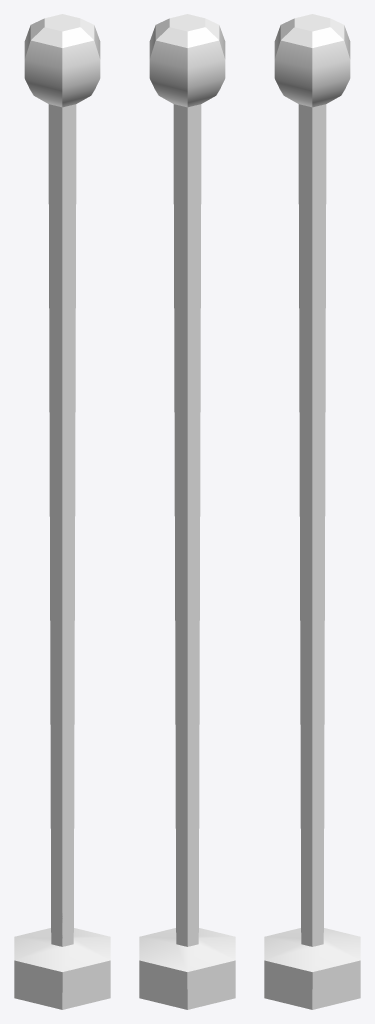
The model's file is ResourceFlag.fbx.
3 views of the same model, side by side, from view 1: azimuth 30°, elevation 25°; view 2: azimuth 150°, elevation 25°; view 3: azimuth 330°, elevation 25° (orthographic).
Parts seen in each view (by area): view 1: ResourceFlag; view 2: ResourceFlag; view 3: ResourceFlag.
Boxes of the visible parts, box(x1,y1,x2,y2) form: ResourceFlag: box(14, 14, 110, 1009); ResourceFlag: box(139, 14, 235, 1009); ResourceFlag: box(264, 14, 360, 1009).
Size of the model in its own units: 0.0819 by 0.7798 by 0.0709.
